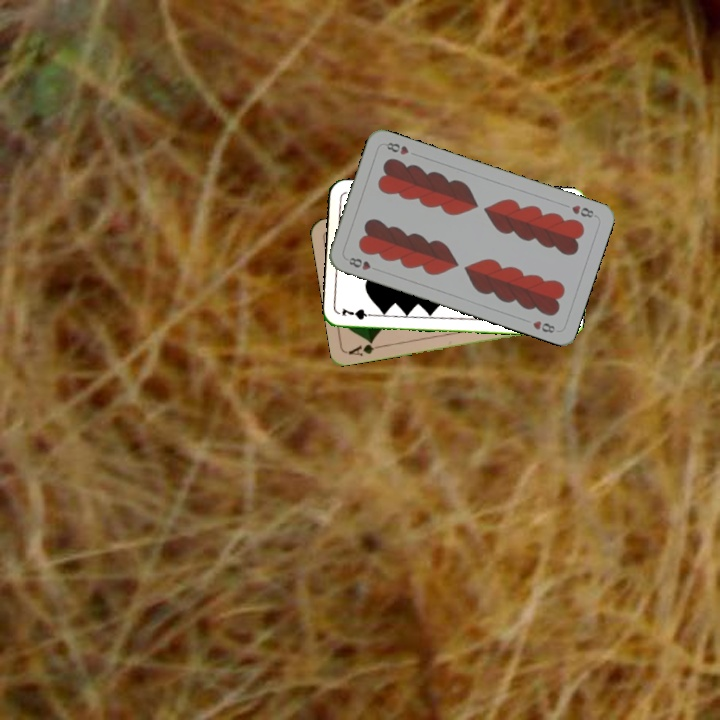G7: (338, 304, 378, 322)
GA: (345, 337, 385, 359)
H8: (345, 253, 382, 274), (568, 201, 599, 220)
